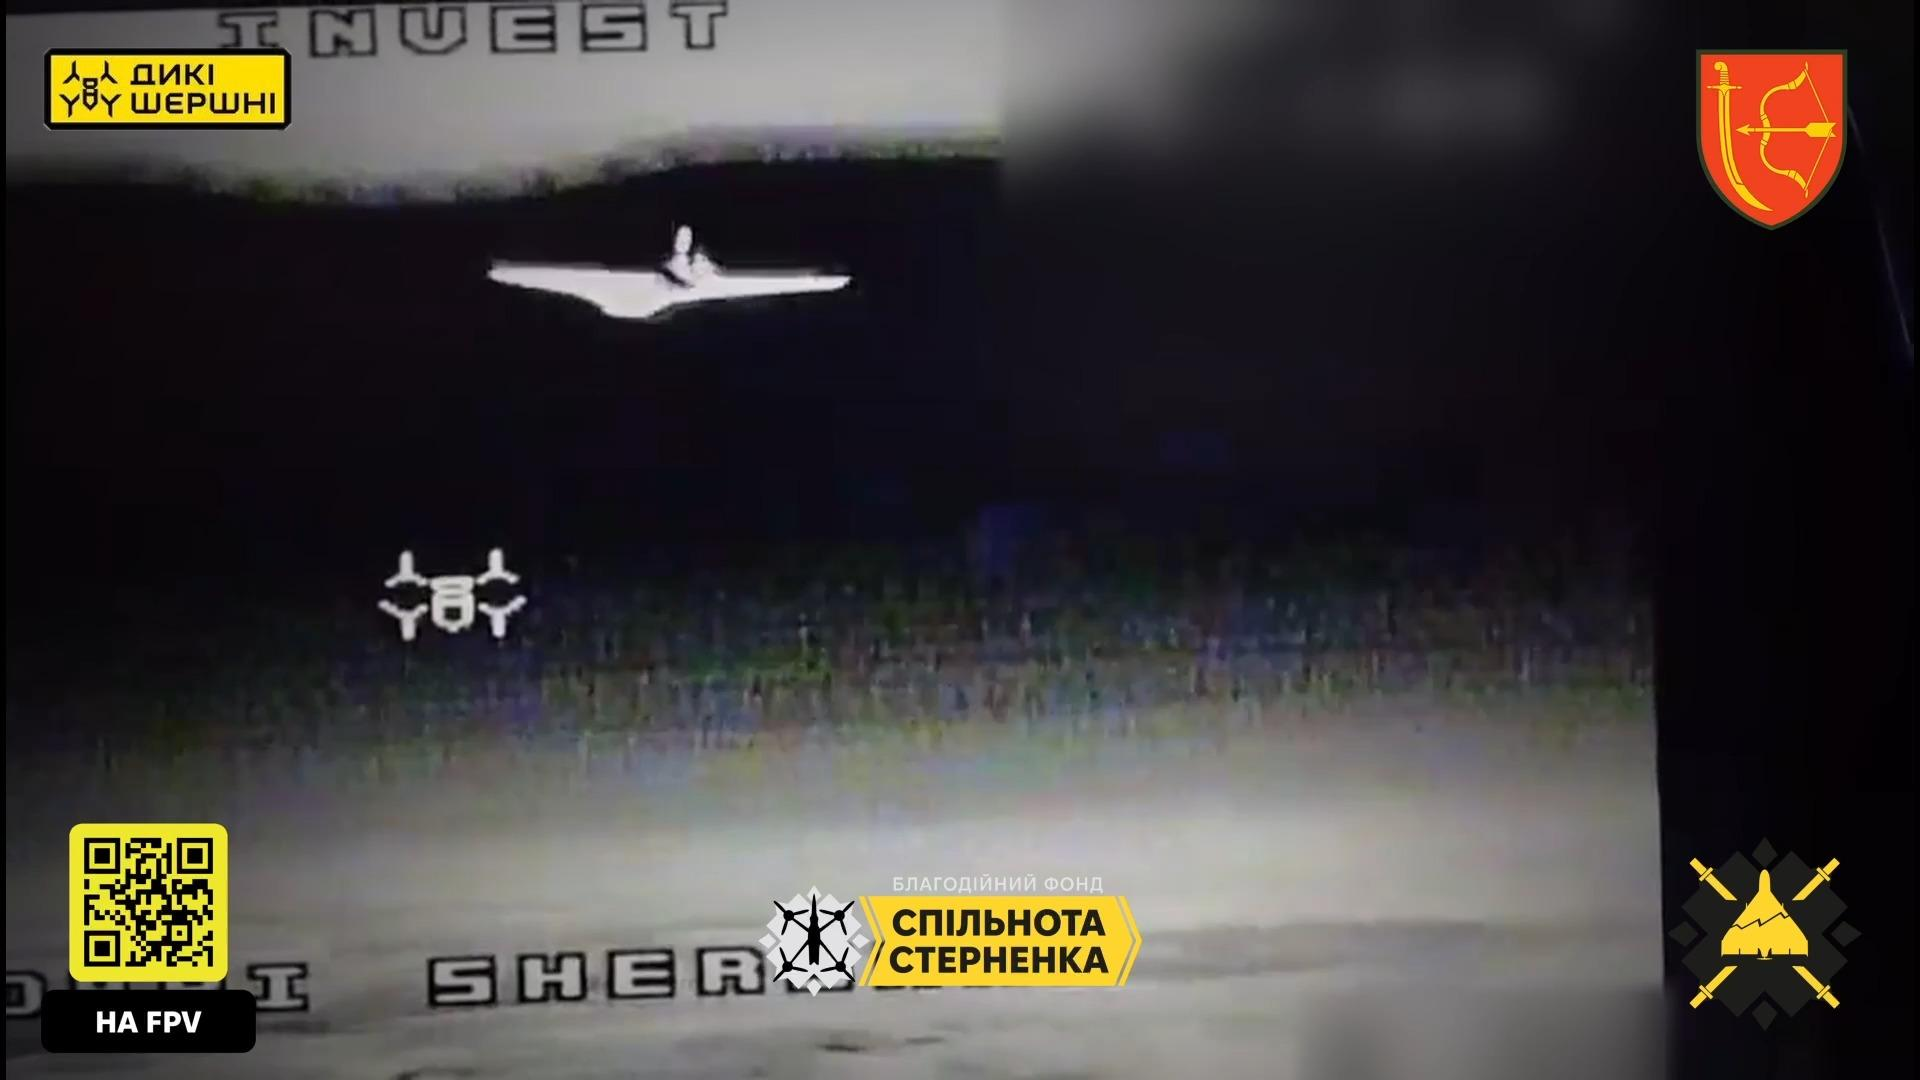Gerbera: (484, 223, 856, 322)
